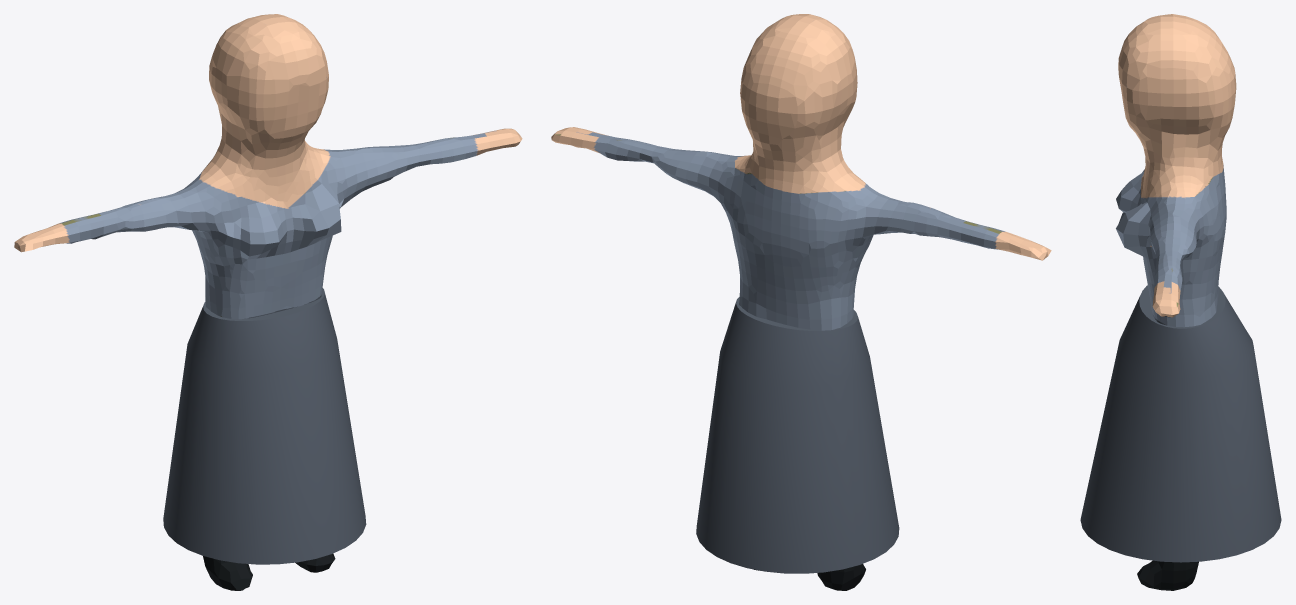
File: woman_1.fbx
3 views of the same model, side by side, from view 1: azimuth 30°, elevation 25°; view 2: azimuth 150°, elevation 25°; view 3: azimuth 270°, elevation 25° (orthographic).
Visible parts, largest first — view 1: Woman_.001; view 2: Woman_.001; view 3: Woman_.001.
Boxes of the visible parts, x1,y1,x2,y2 form: Woman_.001: (14,14,522,590); Woman_.001: (551,14,1051,590); Woman_.001: (1080,14,1281,590).
Size of the model in its own units: 424 by 451 by 150.
Materials: 1 (1 with a texture image).
